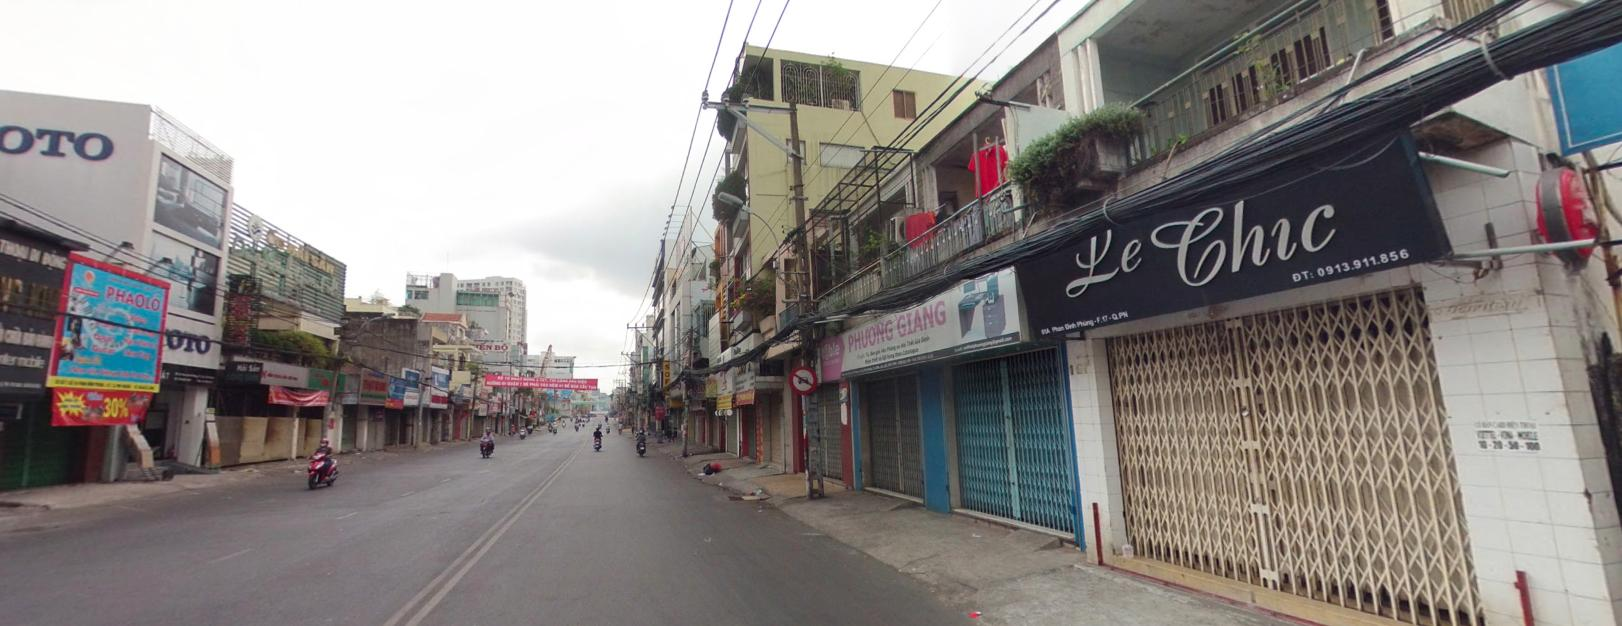Cam con lai: (788, 363, 818, 393)
